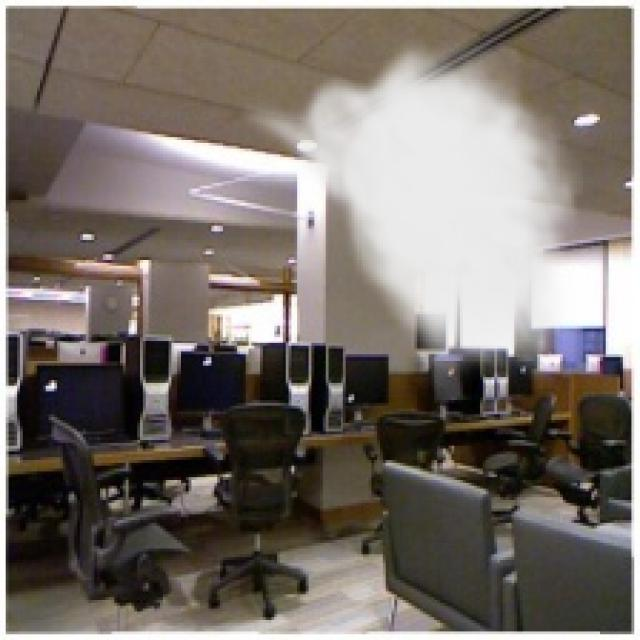smoke: (237, 34, 586, 392)
